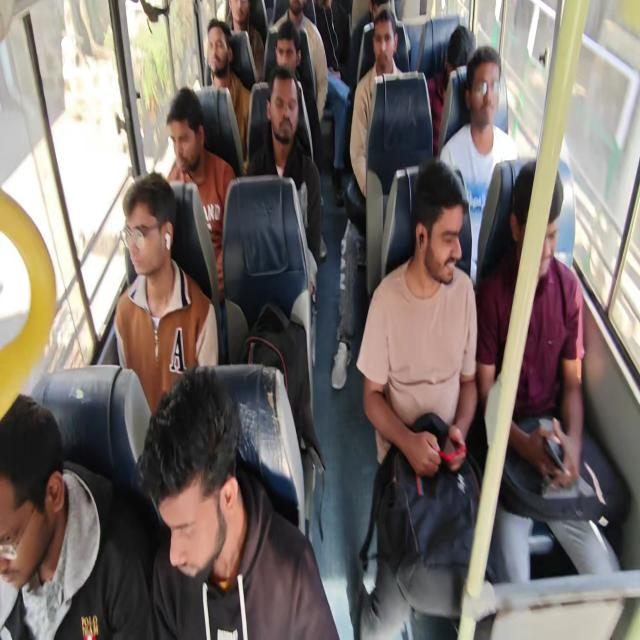person: (118, 393, 320, 640), (0, 393, 95, 571), (479, 142, 577, 275), (111, 161, 167, 289), (405, 166, 463, 275), (204, 30, 254, 104), (427, 26, 478, 93), (466, 33, 501, 130), (265, 70, 302, 146), (159, 98, 194, 163), (280, 8, 310, 82), (311, 0, 347, 61), (368, 12, 402, 76), (284, 0, 306, 38), (229, 0, 250, 38), (360, 0, 383, 20)
